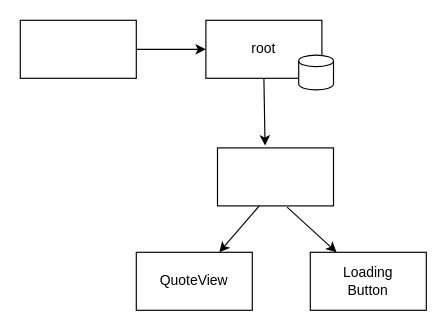
This 447x331 diagram has some shape labels left out. The centre of each missing label's shape, as x and y in pixels:
MainActivity: the point at 77,48
QuoteOfDay Screen: the point at 275,176
